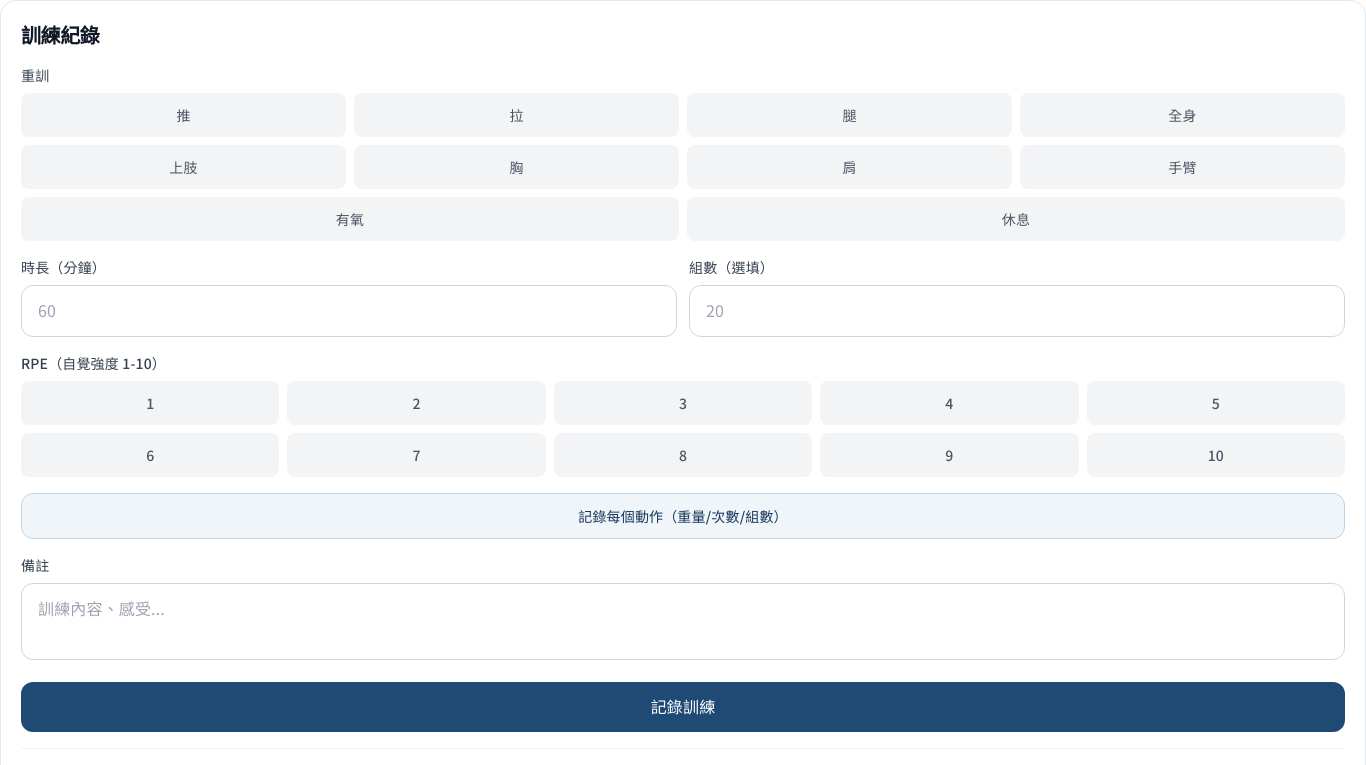
TrainingLog › shows rest day carb hint for rest selection
The image size is (1366, 765).
Click the button "休息" at point(1016, 219), box [687,197,1345,241]
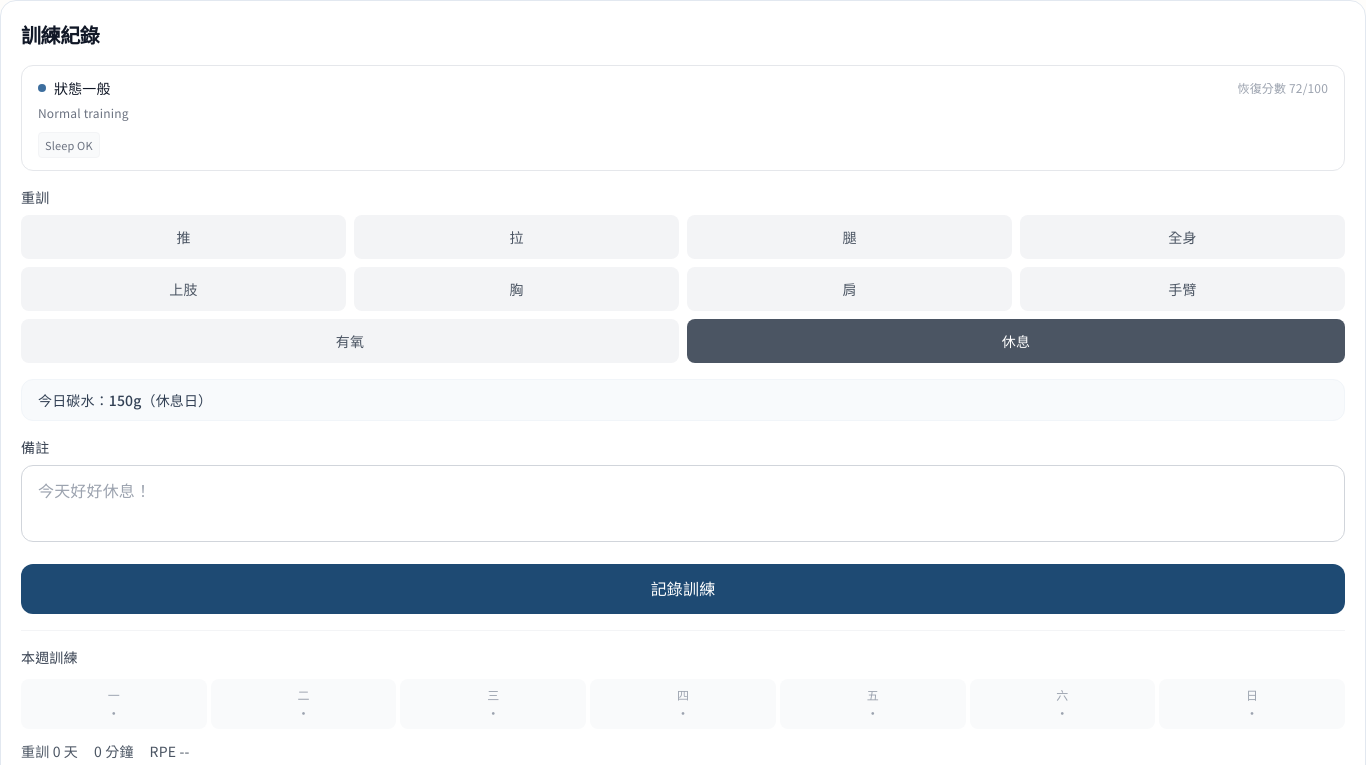
Now the text "今日碳水：150g（休息日）" is shown, box [21,379,1345,421]
